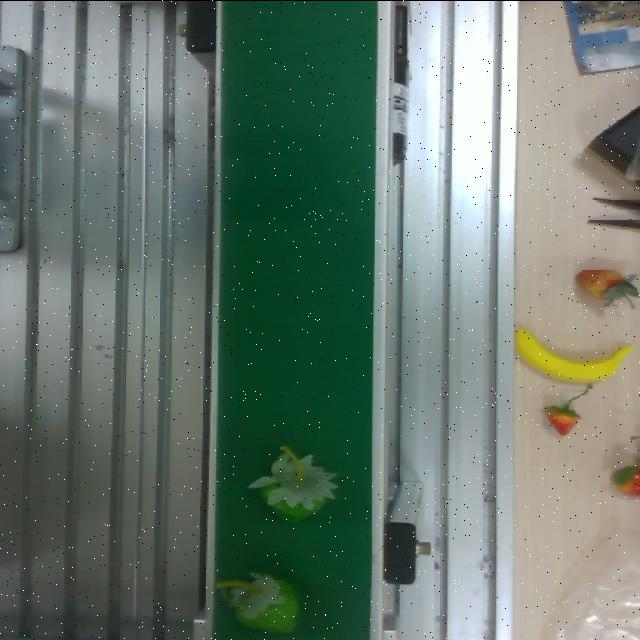Small Unripe Strawberry: (249, 438, 341, 528), (222, 562, 310, 640)
conveyor: (202, 0, 392, 640)
